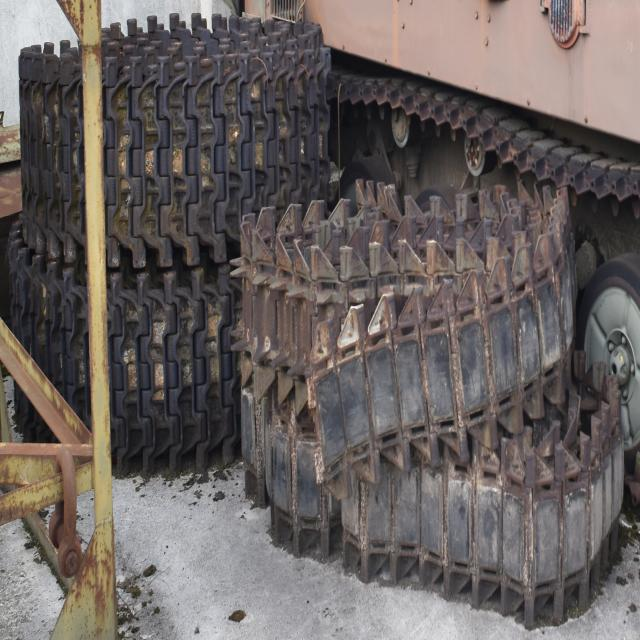entulho: (235, 339, 626, 621), (236, 179, 578, 485), (18, 11, 332, 242), (7, 217, 248, 479)
